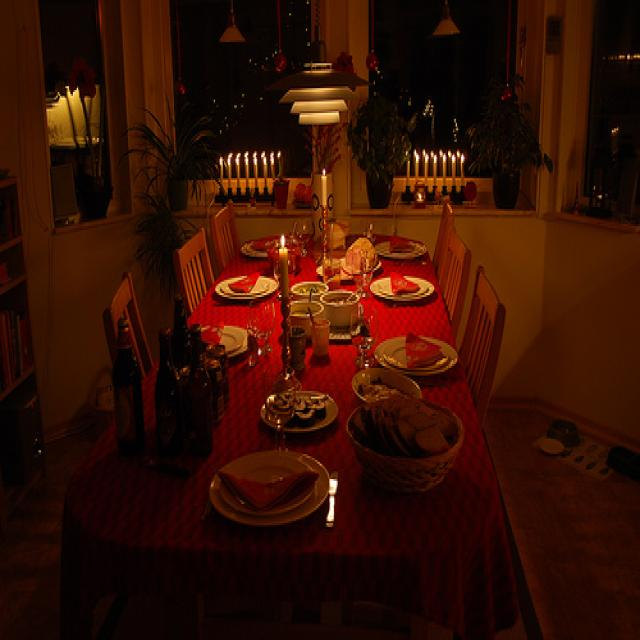Table: (145, 222, 445, 640)
chair: (443, 242, 513, 418), (92, 259, 160, 426), (168, 231, 215, 326), (433, 181, 467, 277), (204, 184, 249, 256)
